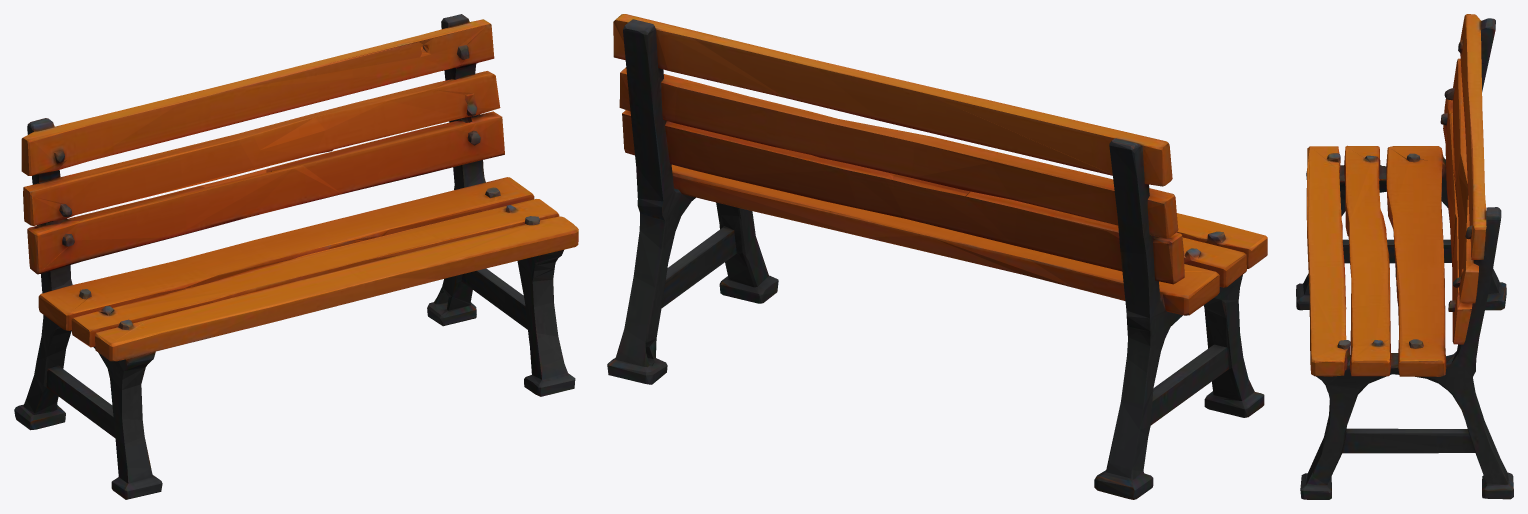
Rendered from banco.glb.
The picture shows the model from 3 angles, left to right: view 1: azimuth 30°, elevation 25°; view 2: azimuth 150°, elevation 25°; view 3: azimuth 270°, elevation 25°; orthographic projection. The views are drawn at different scales.
Parts seen in each view (by area): view 1: geometry_0; view 2: geometry_0; view 3: geometry_0.
Boxes of the visible parts, x1=… form: geometry_0: x1=14, y1=14, x2=578, y2=499; geometry_0: x1=607, y1=14, x2=1267, y2=499; geometry_0: x1=1296, y1=14, x2=1513, y2=499.
Size of the model in its own units: 1.65 by 1 by 0.7028.
Materials: 1 (1 with a texture image).
